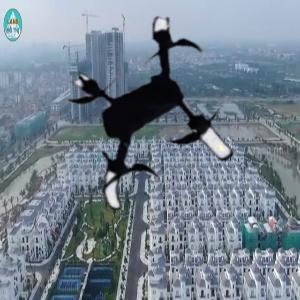drone: (55, 21, 258, 224)
